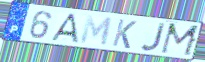6: (29, 10, 53, 40)
A: (49, 12, 80, 45)
J: (139, 22, 168, 53)
K: (111, 18, 139, 50)
M: (159, 22, 202, 58), (78, 14, 114, 48)
